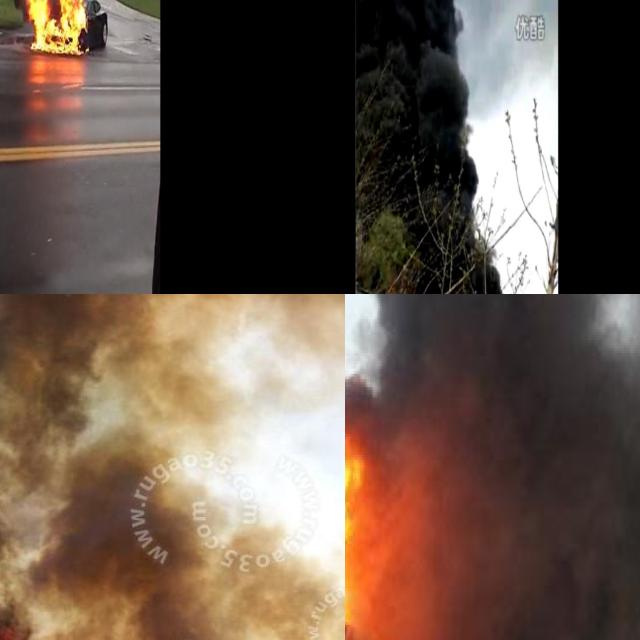fire: (345, 428, 371, 632), (25, 0, 87, 56)
smoke: (0, 294, 345, 640), (345, 300, 640, 640), (356, 0, 522, 294)
